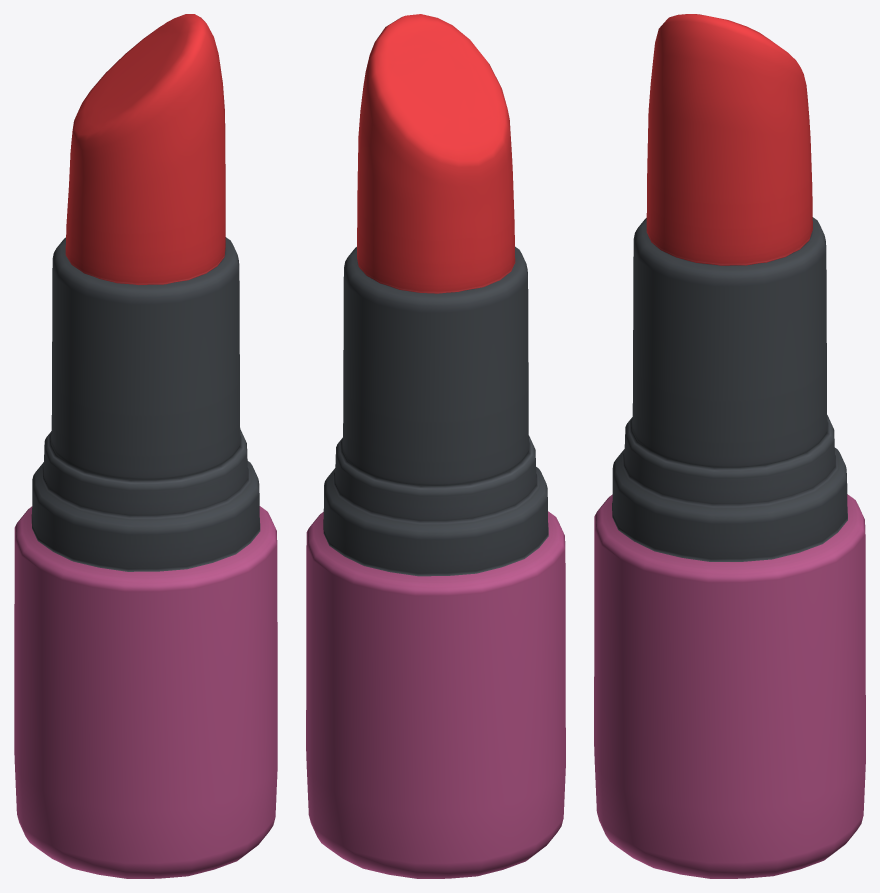
File: lipstick_3d_cartoon_model_free.glb
3 renders of one model, left to right at view 1: azimuth 30°, elevation 25°; view 2: azimuth 150°, elevation 25°; view 3: azimuth 270°, elevation 25°, orthographic. The views are drawn at different scales.
Parts seen in each view (by area): view 1: node_id124_1; view 2: node_id124_1; view 3: node_id124_1.
Part boxes in pixels (x1,y1,x2,y2): node_id124_1: [14, 14, 277, 878]; node_id124_1: [306, 14, 565, 878]; node_id124_1: [594, 14, 865, 878].
Bounding box in the file's own units: 0.1502 × 0.512 × 0.1502.
1 material, 1 textured.
